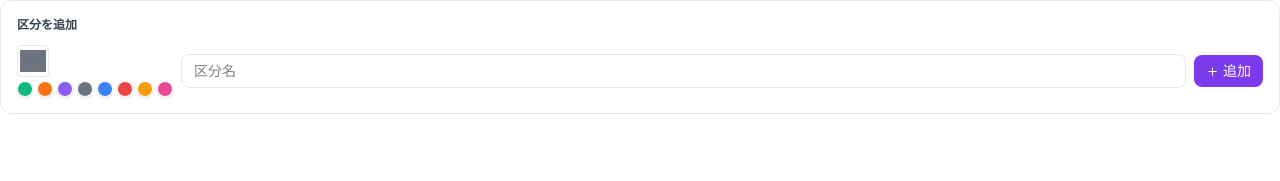
Scenario: AddCategoryForm › 名前未入力の場合はエラーを表示する
Click the button "追加" at (1228, 71), box [1194, 55, 1263, 87]
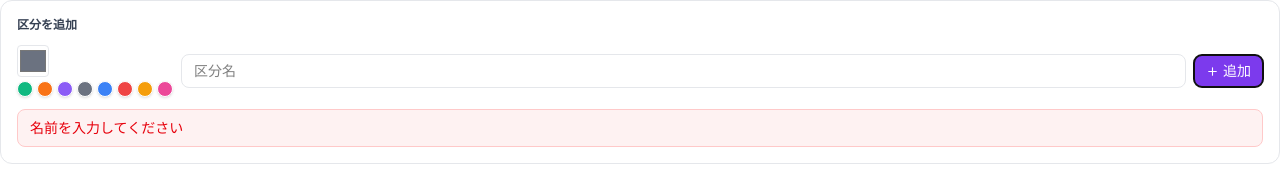
Result: the text "名前を入力してください" is shown at [17, 109, 1263, 147]
